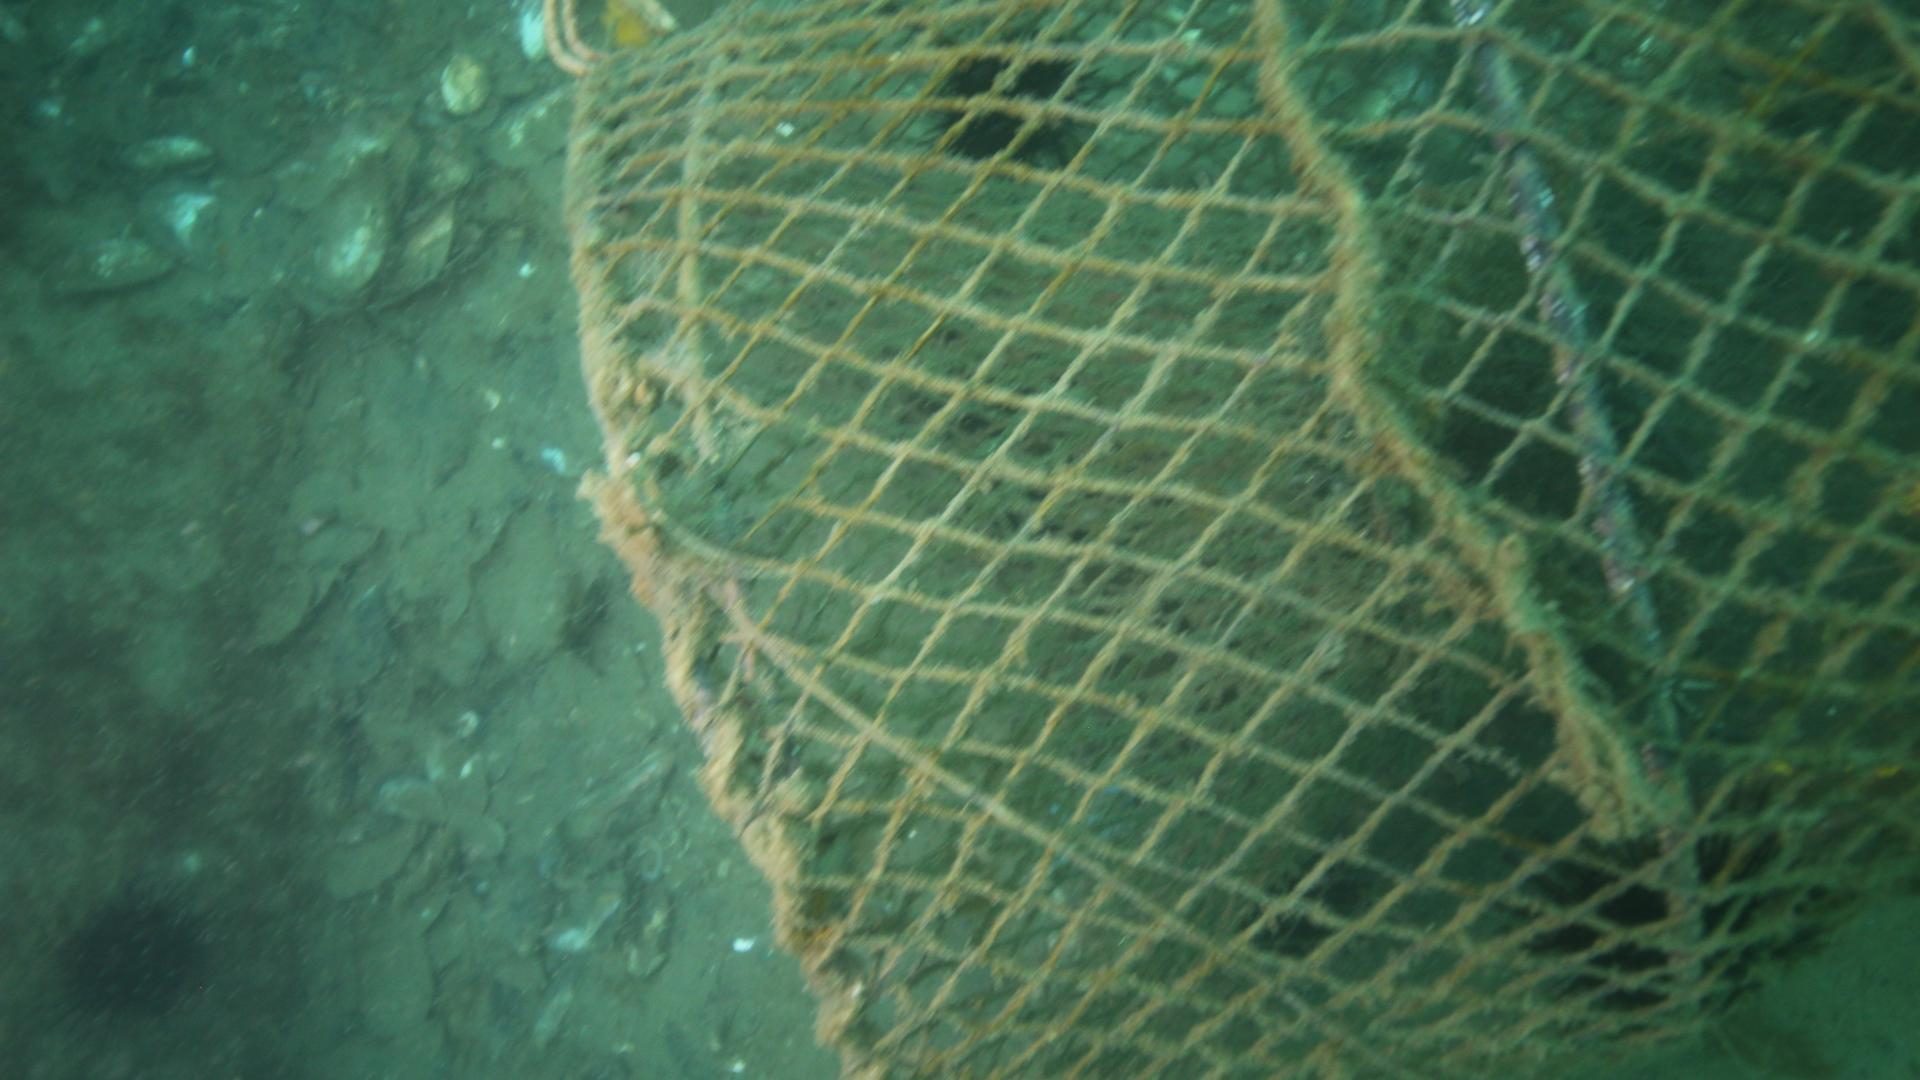spring fish trap: (560, 0, 1920, 1080)
